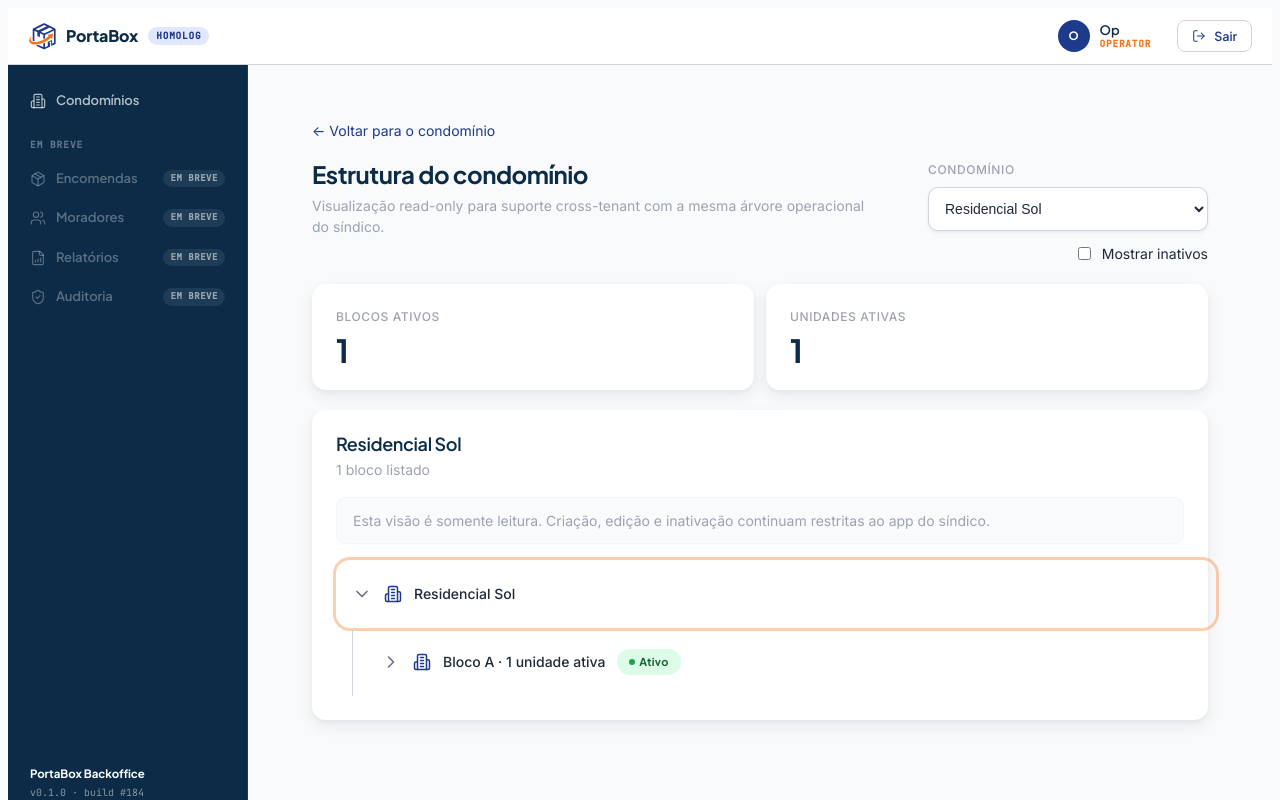
Scenario: EstruturaReadOnlyPage integration › loads a new tenant after selector change and stores the response under a new query key
The image size is (1280, 800).
Expected: the heading "Residencial Sol" is shown, left=336, top=434, right=461, bottom=454
Select "Residencial Lua" in the dropdown labelled "Condomínio" at x=1068, y=209, box left=928, top=187, right=1208, bottom=231
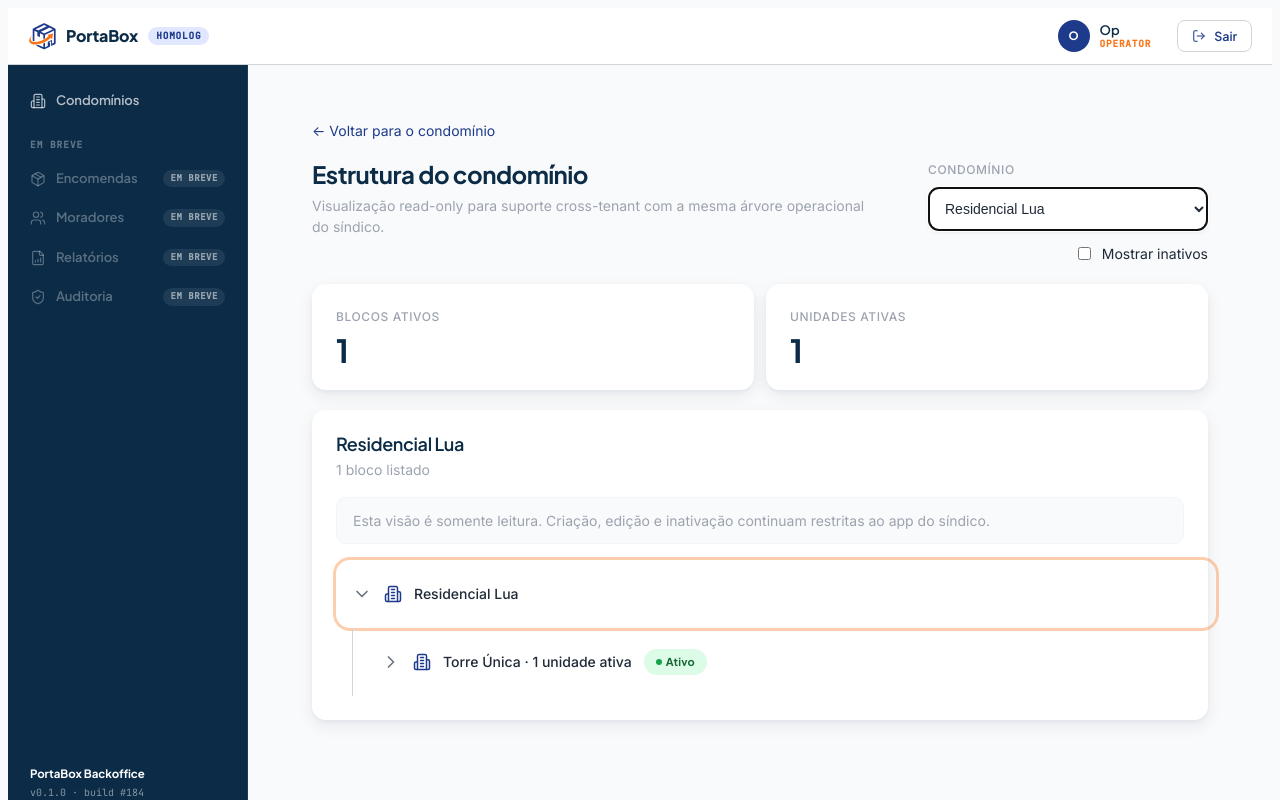
Expected: the heading "Residencial Lua" is shown, left=336, top=434, right=464, bottom=454
